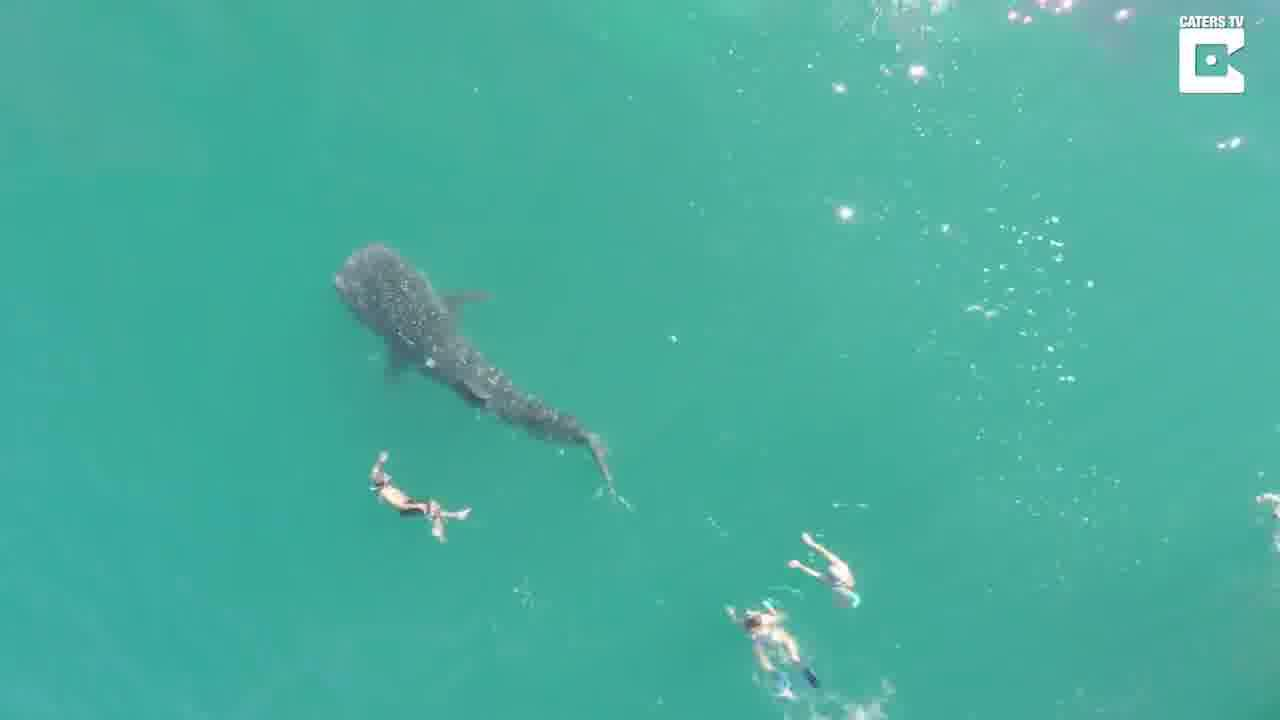swimmer: (360, 452, 476, 543), (731, 608, 816, 704), (784, 532, 864, 613)
